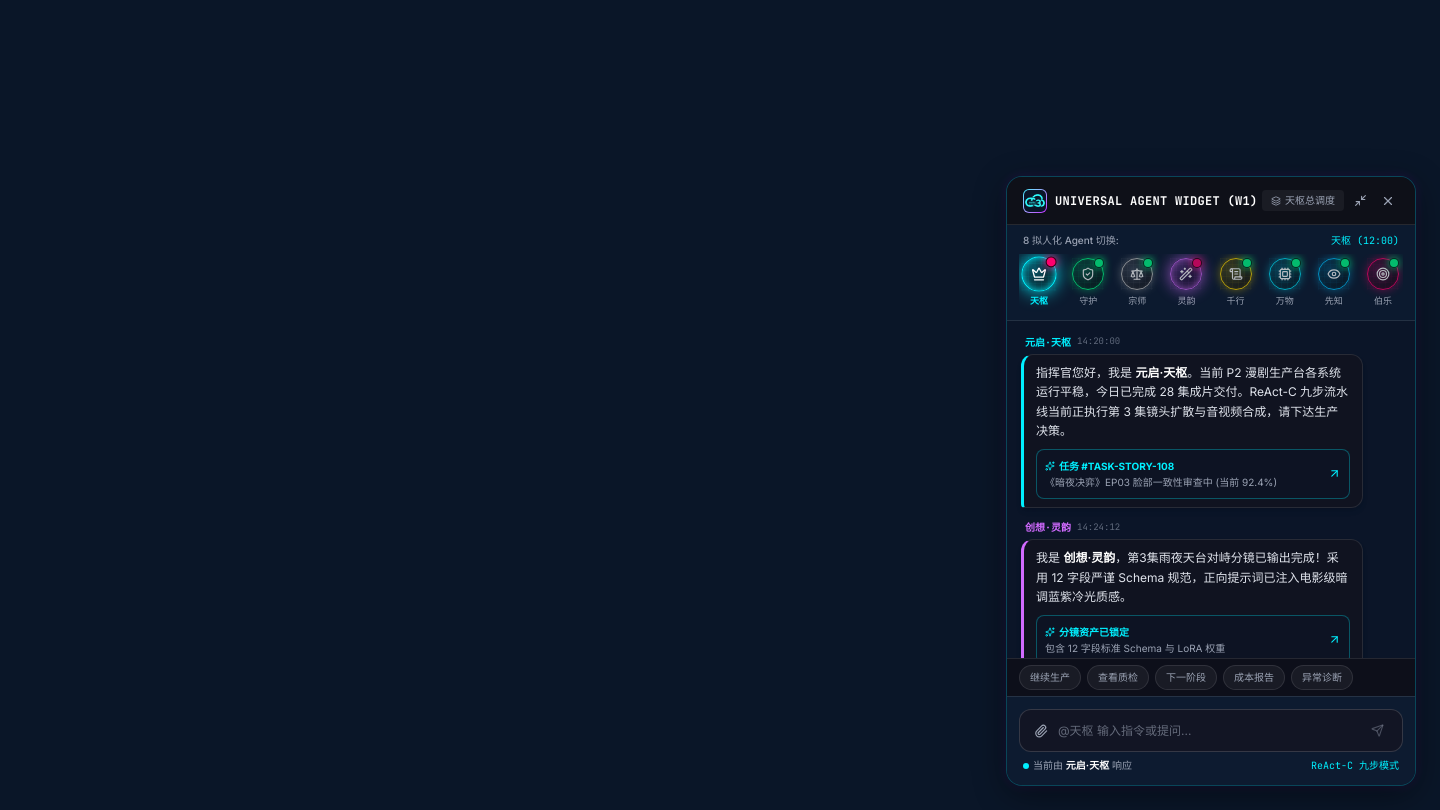
Test: UniversalWidget（W1 浮窗） › 附件按钮：注入上传指令文案并走 fallback 语义回复
This screenshot has width=1440, height=810.
Click the button titled "上传剧本/参考图 (附件)" at (1041,730), box [1032, 722, 1050, 740]
Wait 700 ms
(page scrolled)
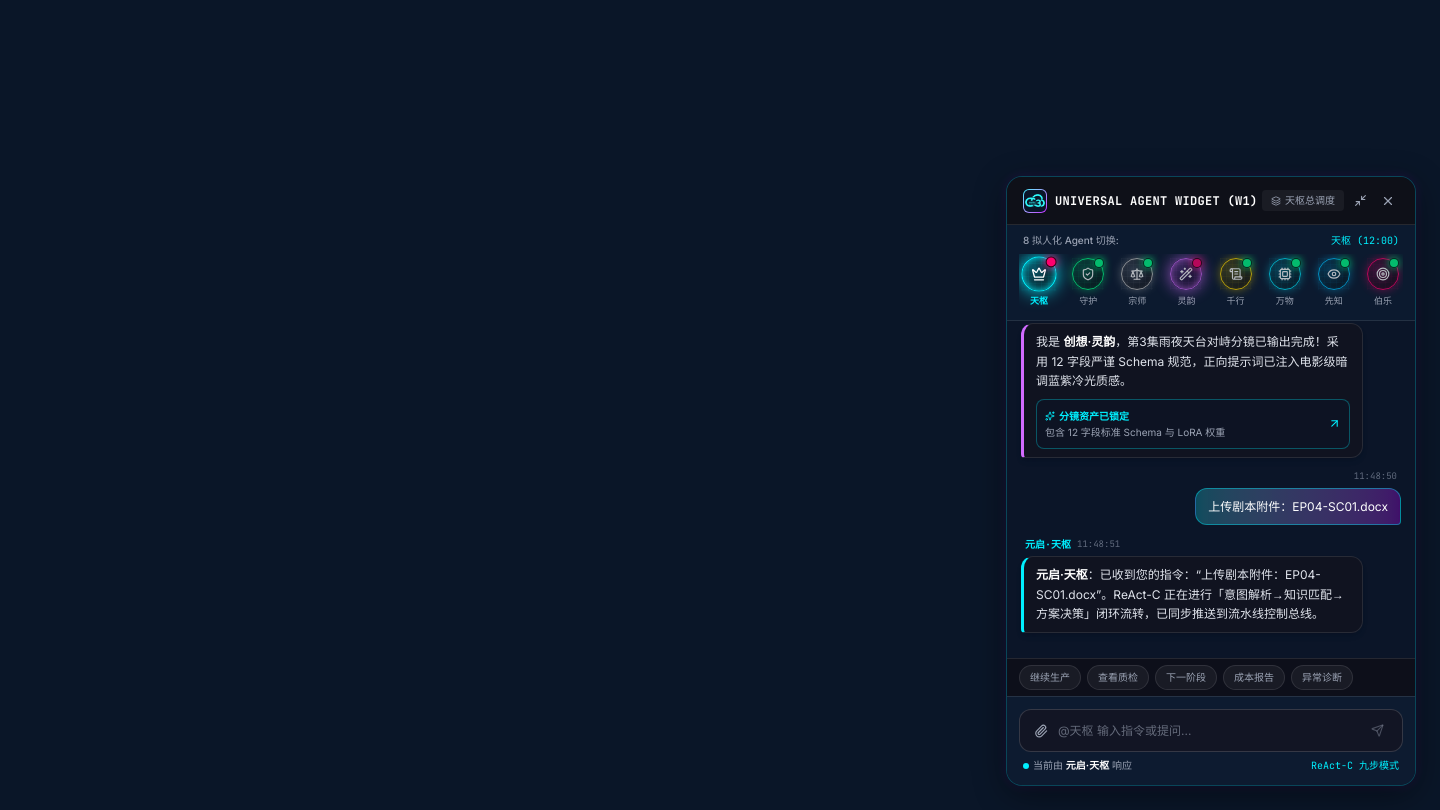
Expected: the text "已收到您的指令" is shown, [1036, 567, 1344, 621]
